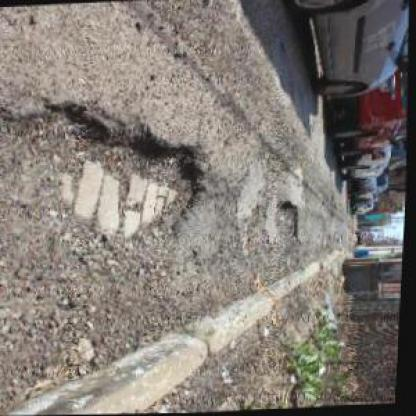pothole: (0, 89, 212, 263), (274, 198, 306, 244)
